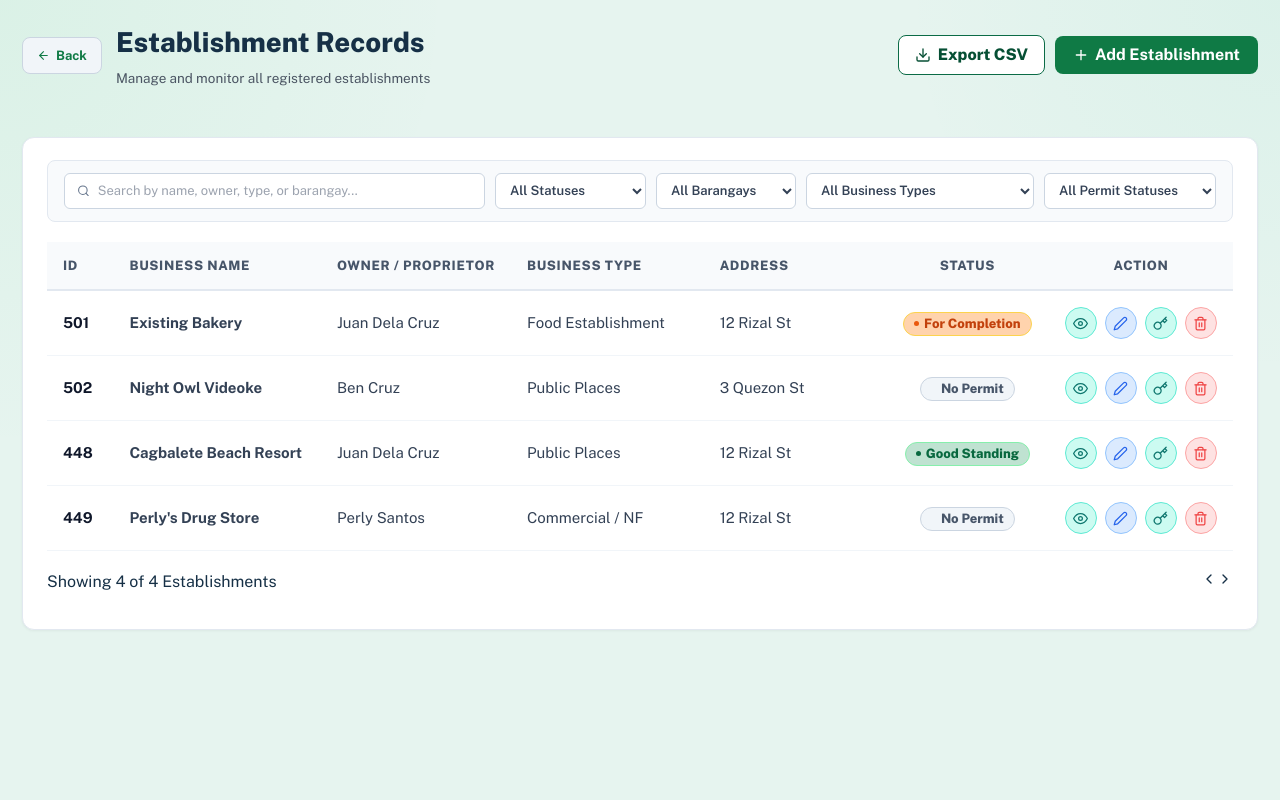
it: Establishment Records table › Ambulant Food Vendor can be filtered but has no records yet
Select "Ambulant Food Vendor" in the 3rd dropdown at (920, 190), box [806,172,1034,208]
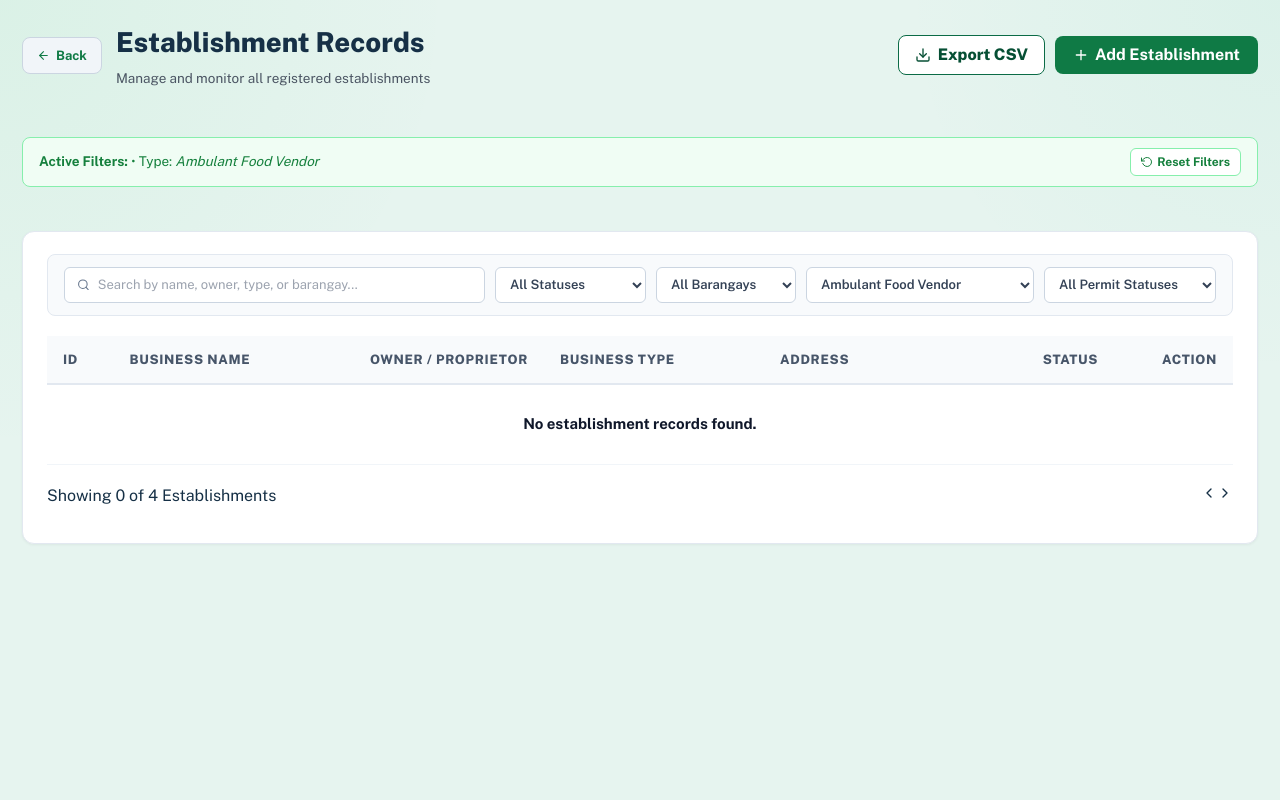
Expected: the text "No establishment records found." is shown, [47,385,1233,465]
